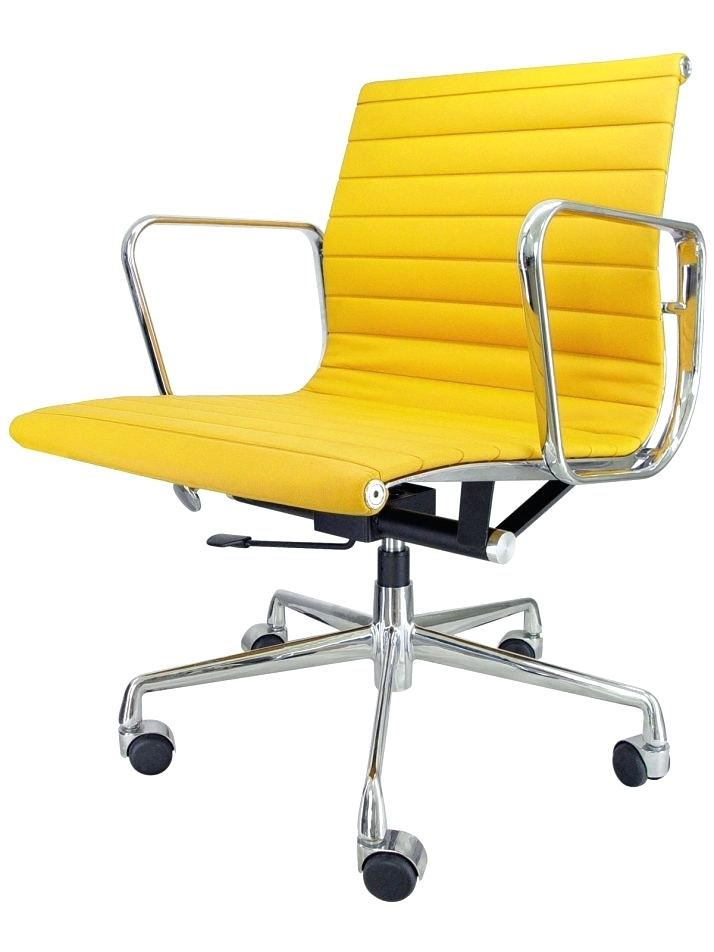chairs: (10, 52, 710, 909)
